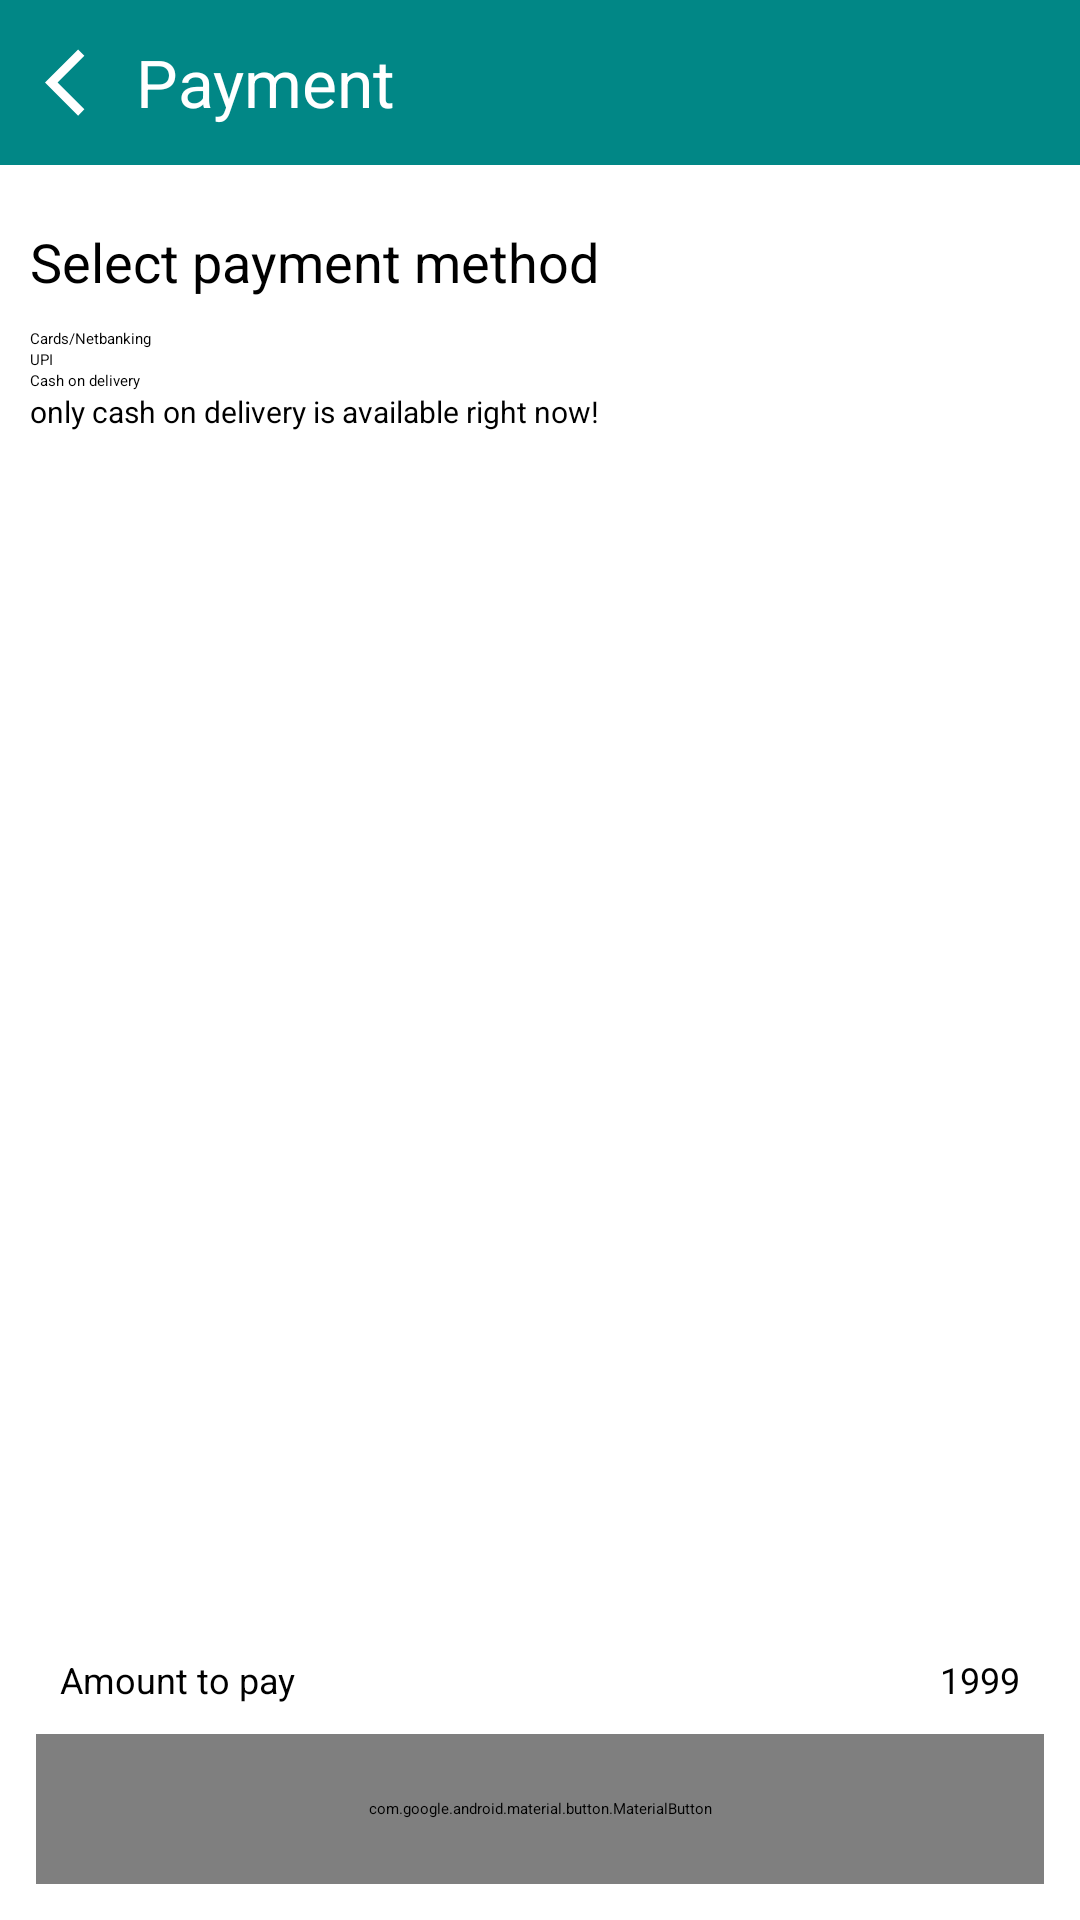

Where to tap for icons on this 1080px x 1920px app screen, as (x,y):
arrow back: (65,82)
